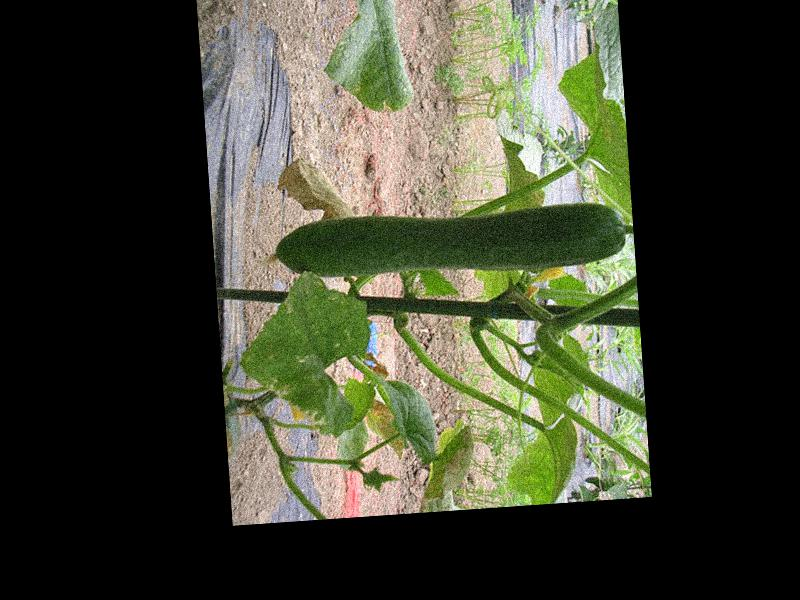Cucumber: (264, 198, 627, 288)
